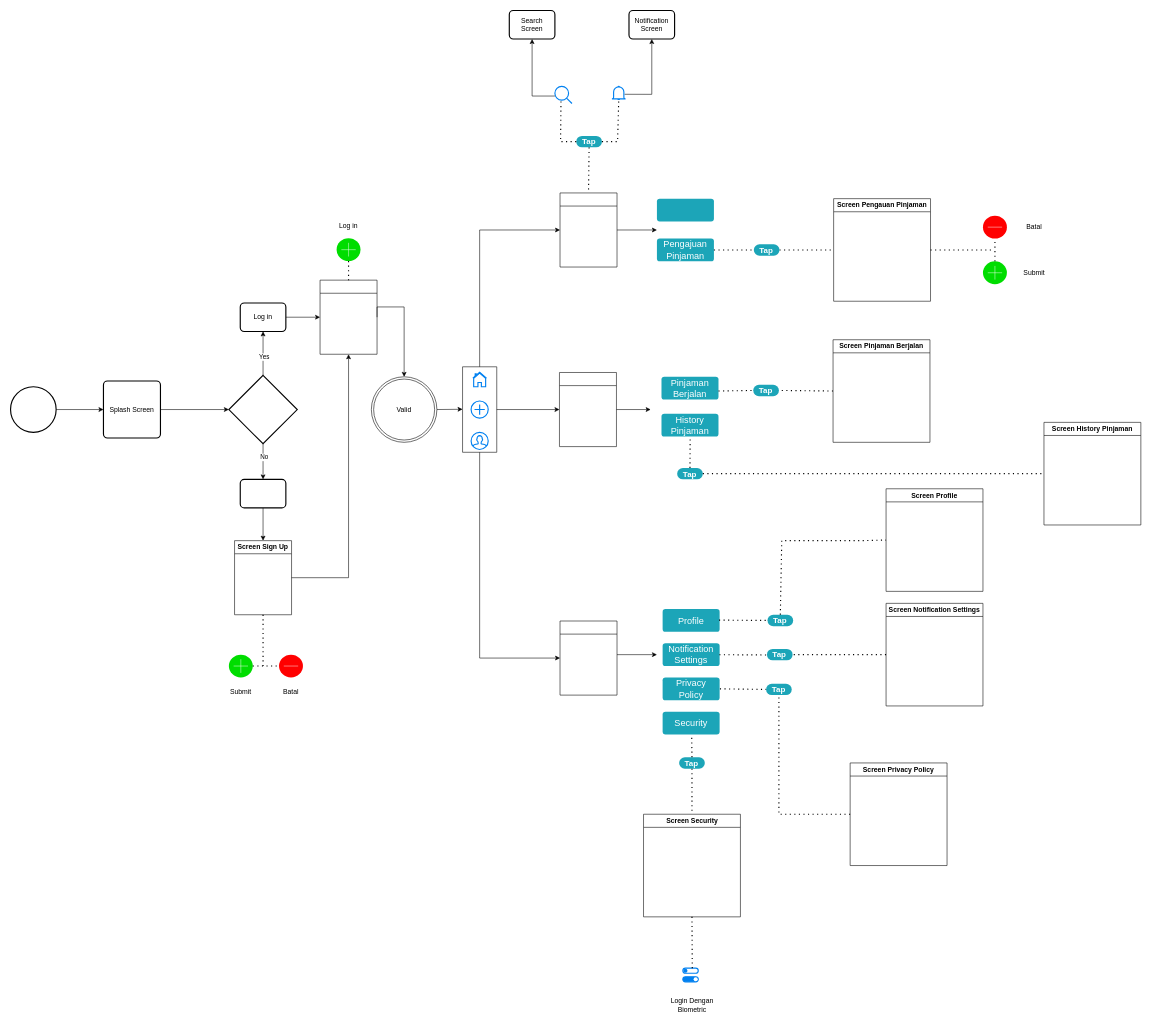
This 1151x1029 diagram has some shape labels left out. The shapes that lost their labels are listed below. From the top down, each one's centre as x and y in pixels, then its label:
(x=588, y=229): HOME
(x=685, y=209): News
(x=348, y=317): Screen Log in
(x=33, y=409): Start
(x=263, y=409): Punya account ?
(x=587, y=409): PINJAMAN
(x=262, y=493): Sign up
(x=588, y=657): ACCOUNT
